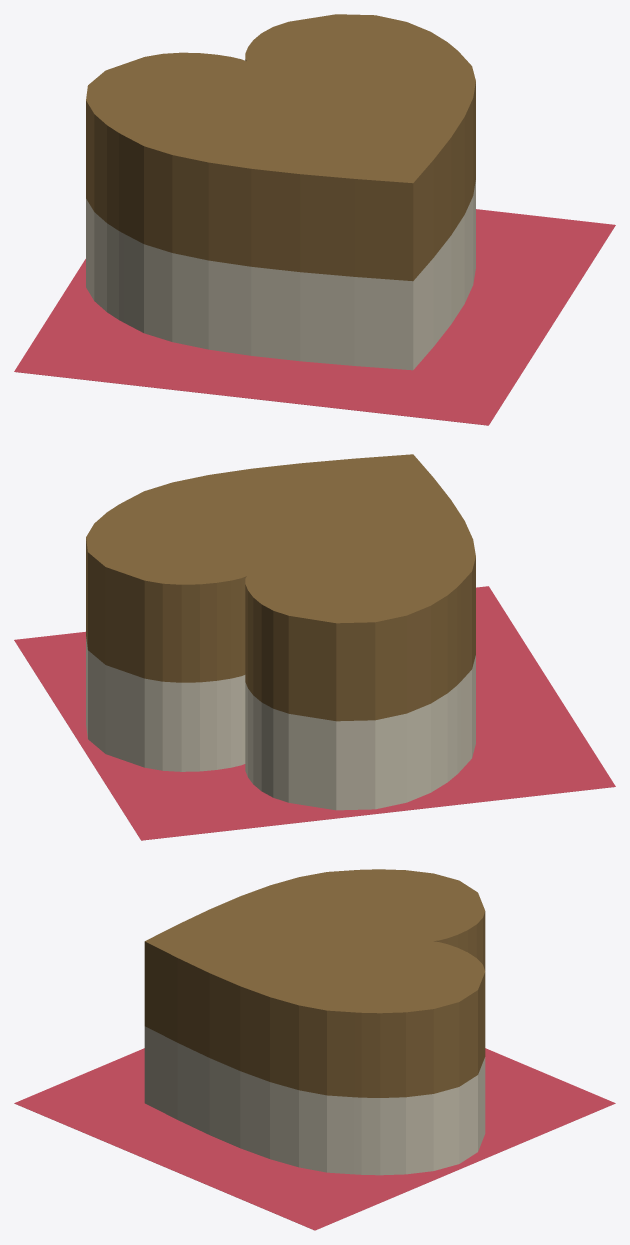
The model's file is VCC.glb.
3 views of the same model, one above another, from view 1: azimuth 30°, elevation 25°; view 2: azimuth 150°, elevation 25°; view 3: azimuth 270°, elevation 25° (orthographic). The views are drawn at different scales.
Parts seen in each view (by area): view 1: Mesh_Mesh_head_geo.001_lambert2SG.001; view 2: Mesh_Mesh_head_geo.001_lambert2SG.001; view 3: Mesh_Mesh_head_geo.001_lambert2SG.001.
Boxes of the visible parts, <box> form: Mesh_Mesh_head_geo.001_lambert2SG.001: <box>14,14,615,425</box>; Mesh_Mesh_head_geo.001_lambert2SG.001: <box>14,454,615,840</box>; Mesh_Mesh_head_geo.001_lambert2SG.001: <box>14,869,615,1230</box>.
Bounding box in the file's own units: 0.0354 × 0.0105 × 0.0354.
